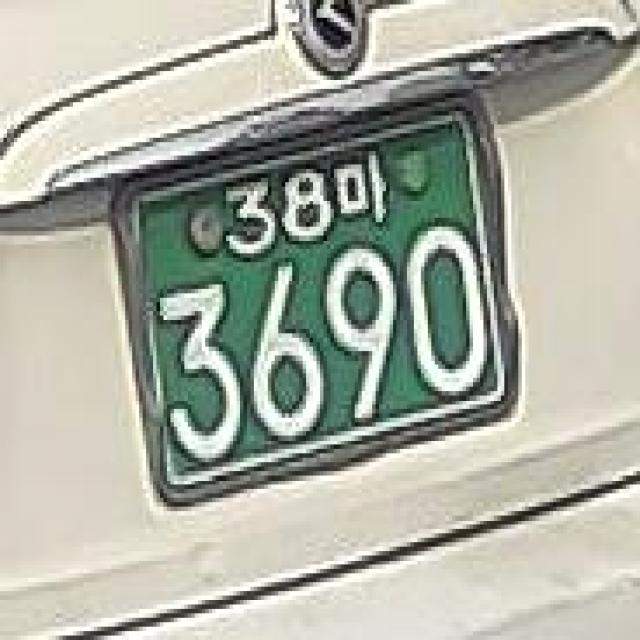illegal_plate: (110, 95, 530, 518)
